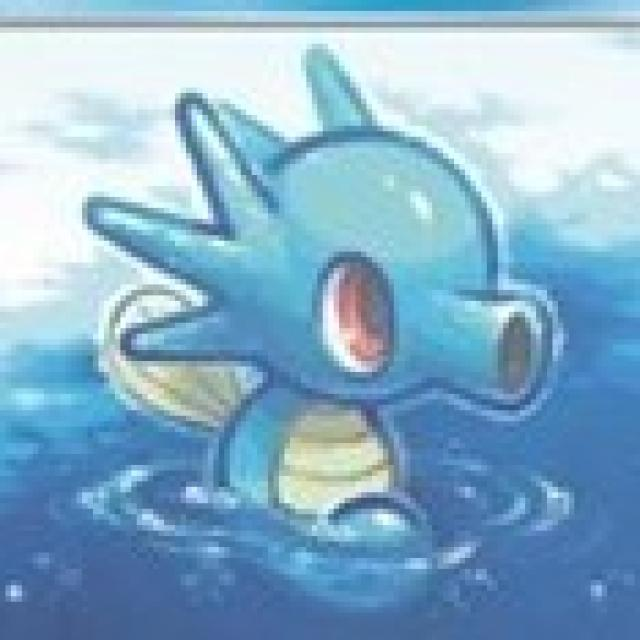Horsea: (109, 94, 552, 539)
